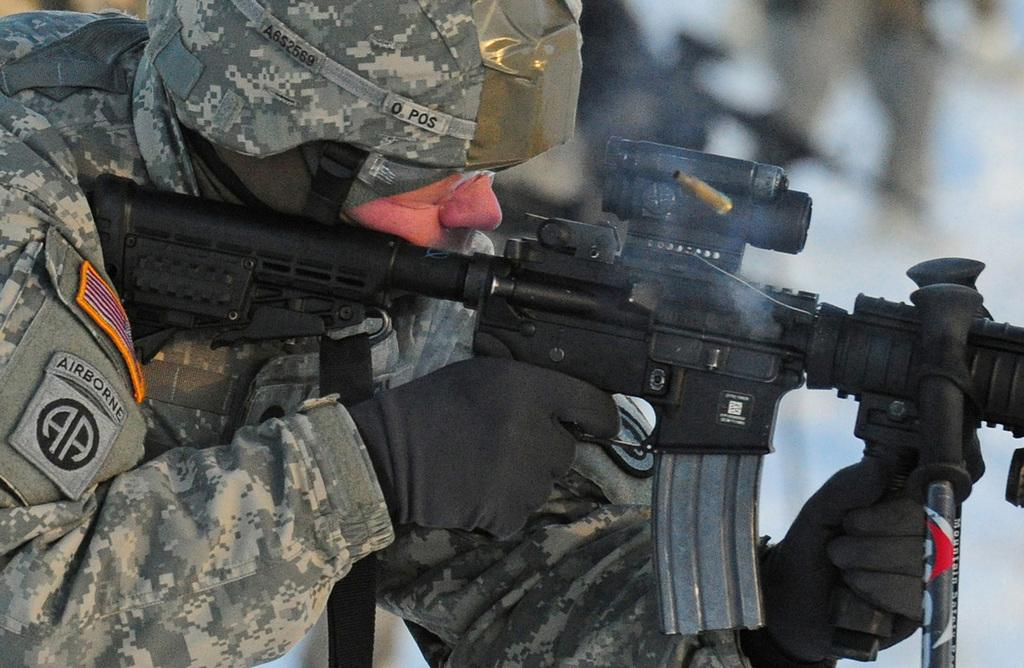Rifle: (87, 132, 1023, 667)
